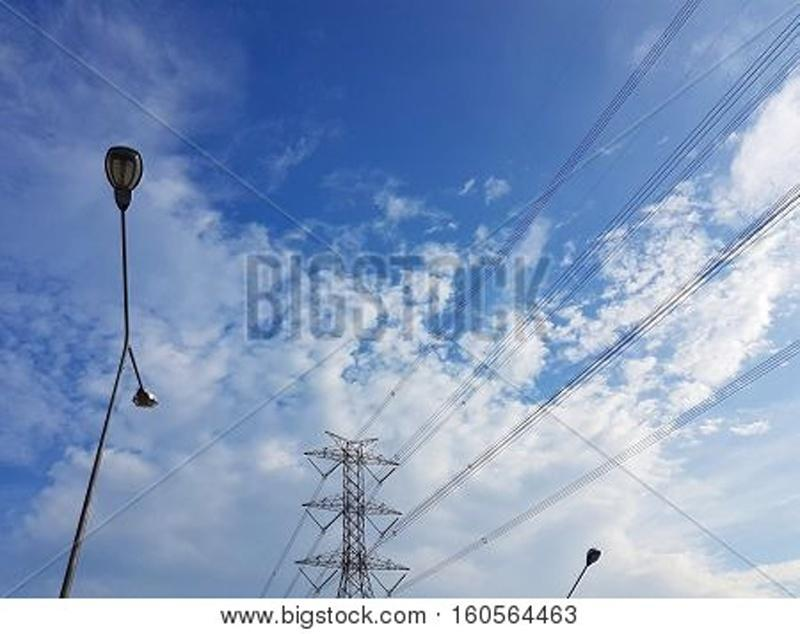power_tower: (293, 420, 402, 597)
